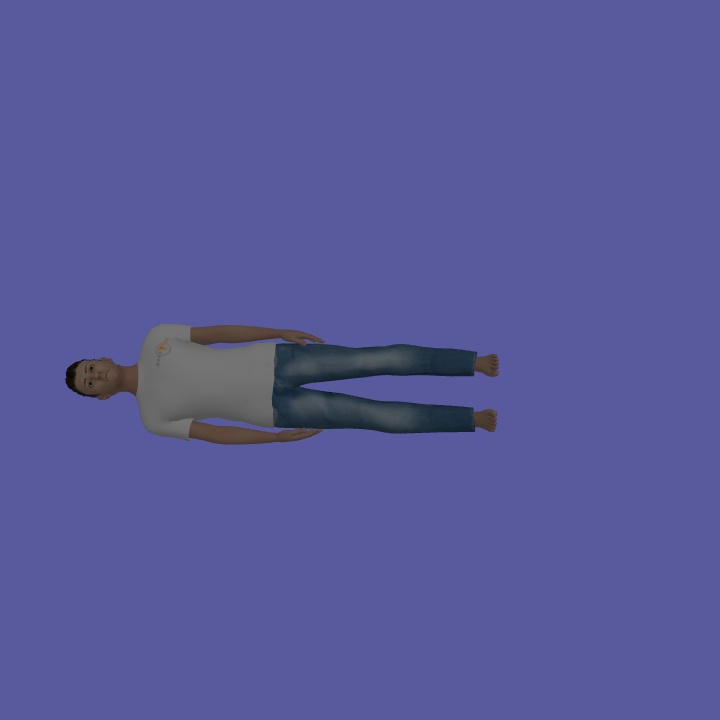victim: (61, 313, 501, 447)
